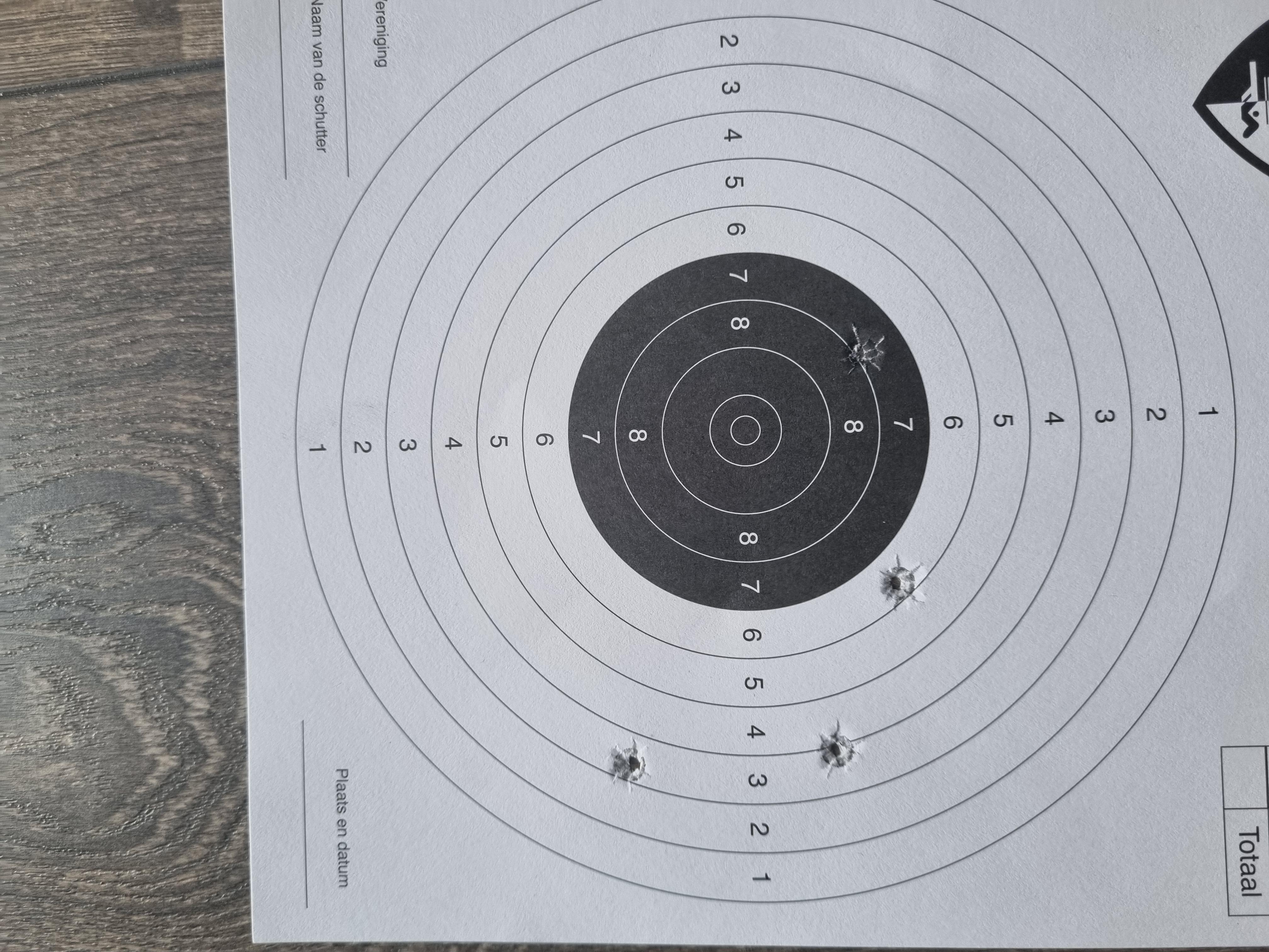hole: (232, 608, 301, 646), (454, 657, 523, 693), (772, 630, 837, 667), (218, 454, 281, 487)
